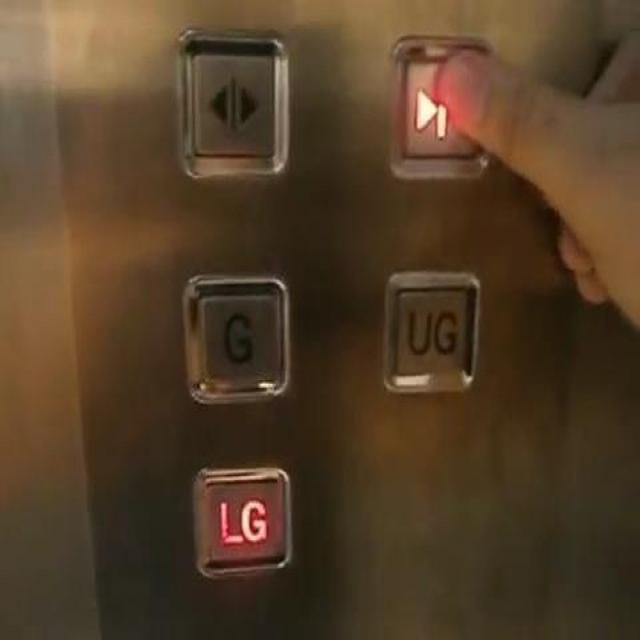G: (181, 273, 290, 403)
LG: (192, 465, 291, 576)
UG: (384, 271, 477, 393)
open: (176, 24, 288, 177)
